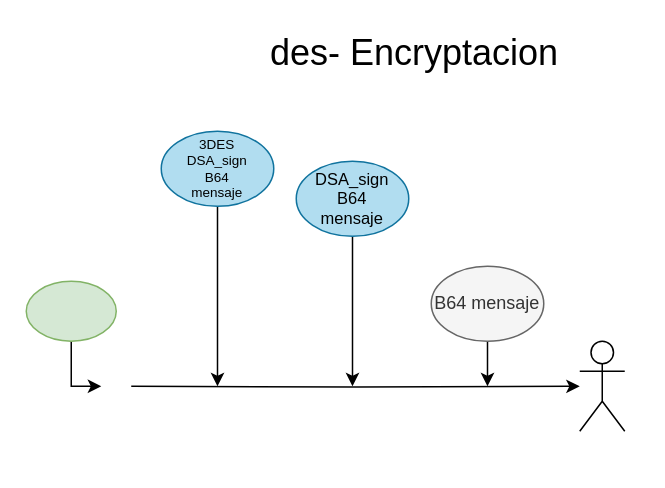
Image size: 665x488. Some labels were removed from this diagram. The shapes that lost their labels are listed below. From the top down, each one's box as (x1, y1, x2, y2) in pixels, then its label:
(25, 280, 116, 341): mensaje
(578, 340, 625, 431): Receptor
